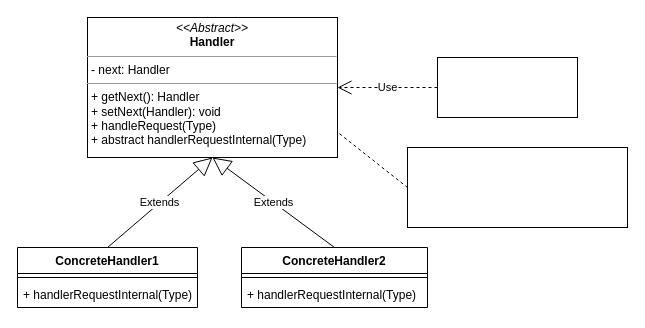
Image size: 645x328. Some labels were removed from this diagram. The shapes that lost their labels are listed below. From the top down, each one's box as (x1, y1, x2, y2) in pixels, then its label:
(436, 56, 578, 118): Client
(406, 146, 628, 228): handleRequestInternal(type); if(next != null){ next.handleRequest(type); }
